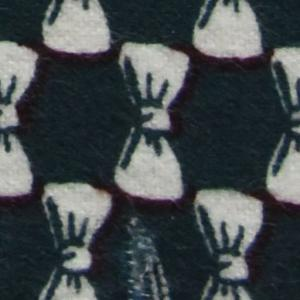Damage: (118, 212, 177, 300)
